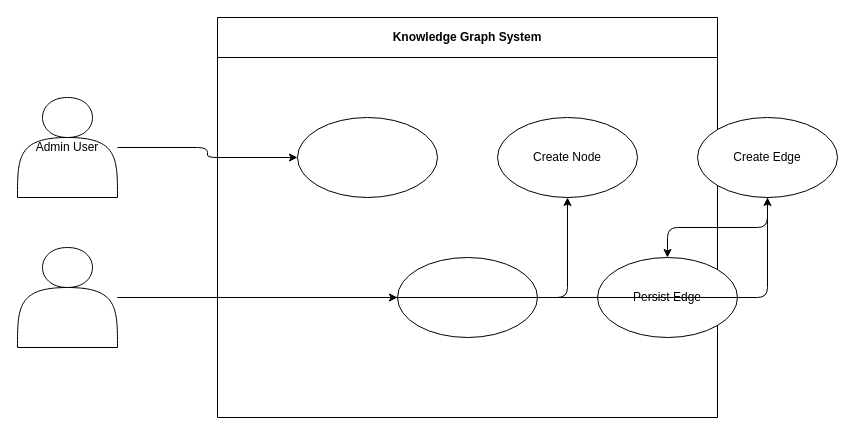
Some shapes in this 855 by 435 pixel diagram are drawn without their labels. Each missing label, with the centre of its shape:
Ingest Entry: [367,157]
Ingestion Service: [67,297]
Match Nodes: [467,297]
